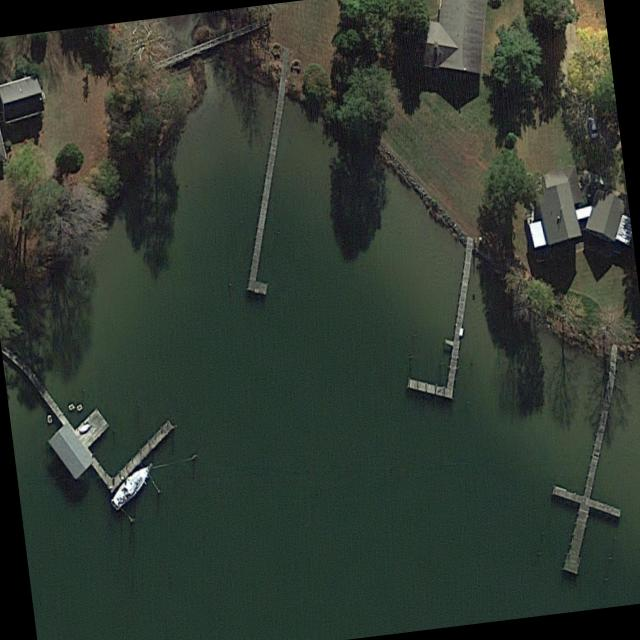ship: (107, 455, 157, 514)
small-vehicle: (586, 116, 598, 139)
